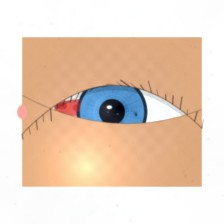hemorrhage_spot: (41, 69, 137, 146)
